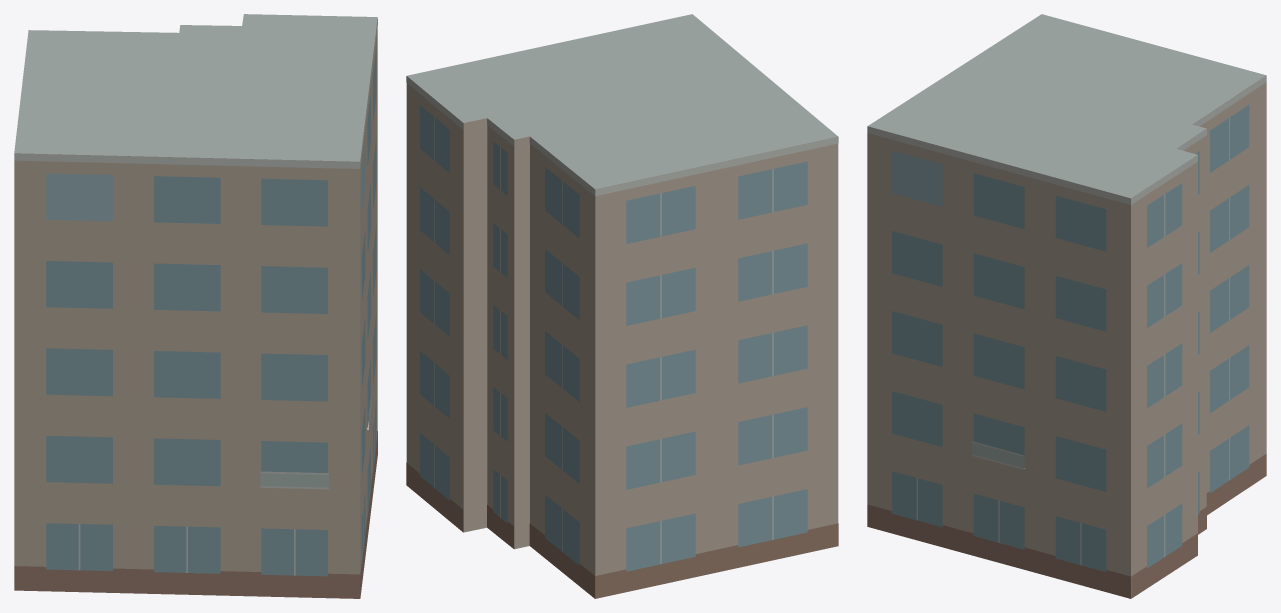
The model's file is survey-upis-32868937.glb.
The picture shows the model from 3 angles, left to right: view 1: azimuth 30°, elevation 25°; view 2: azimuth 150°, elevation 25°; view 3: azimuth 270°, elevation 25°; orthographic projection. The views are drawn at different scales.
Visible parts, largest first — view 1: survey-upis-32868937.tmp; view 2: survey-upis-32868937.tmp; view 3: survey-upis-32868937.tmp.
Boxes of the visible parts, bbox=[...] form: survey-upis-32868937.tmp: bbox=[14, 14, 377, 598]; survey-upis-32868937.tmp: bbox=[406, 14, 838, 598]; survey-upis-32868937.tmp: bbox=[867, 14, 1266, 598].
Size of the model in its own units: 14.32 by 14.5 by 13.1.
